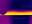Hotspot: (4, 11, 31, 15)
